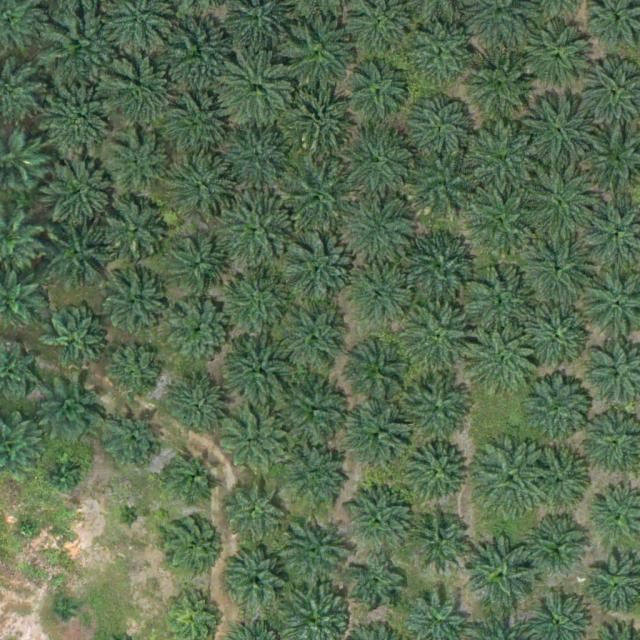Healthy: (44, 11, 122, 90), (42, 79, 120, 158), (99, 57, 177, 136), (219, 332, 297, 411), (218, 265, 296, 344), (218, 189, 296, 268), (219, 51, 297, 130), (286, 77, 364, 156), (280, 154, 358, 233), (281, 234, 359, 313), (276, 372, 354, 451), (340, 196, 418, 275), (341, 127, 419, 206), (401, 229, 479, 308), (399, 298, 477, 377), (466, 326, 544, 405), (462, 265, 540, 344), (519, 163, 597, 242), (521, 228, 599, 307), (518, 295, 596, 374), (516, 371, 594, 450), (471, 440, 549, 519), (39, 153, 117, 231), (520, 92, 598, 170), (219, 129, 290, 200), (44, 222, 115, 292), (39, 377, 109, 448), (285, 20, 355, 91), (279, 305, 350, 375), (346, 336, 416, 407), (408, 19, 478, 90), (466, 46, 536, 117), (466, 122, 537, 192), (409, 155, 480, 225), (402, 377, 472, 448), (526, 22, 596, 93), (468, 535, 538, 606), (345, 486, 415, 557), (280, 443, 351, 513), (405, 94, 475, 164), (279, 517, 349, 587), (219, 409, 289, 479), (104, 277, 167, 340), (169, 301, 232, 364), (347, 63, 410, 126), (220, 475, 283, 538), (227, 548, 290, 611), (44, 309, 106, 372), (103, 201, 165, 264), (106, 131, 168, 194), (162, 90, 224, 153), (174, 158, 236, 221), (167, 379, 229, 442), (354, 270, 416, 333), (471, 188, 533, 251), (528, 444, 590, 507), (410, 509, 473, 571), (347, 556, 409, 619), (160, 447, 222, 510), (161, 513, 223, 576), (168, 20, 230, 82), (530, 516, 592, 578), (405, 441, 467, 503), (350, 406, 412, 468), (171, 241, 226, 296), (107, 412, 161, 468), (106, 346, 160, 401)
Small: (48, 461, 79, 493), (18, 519, 42, 543), (119, 507, 143, 531), (51, 599, 74, 623)
